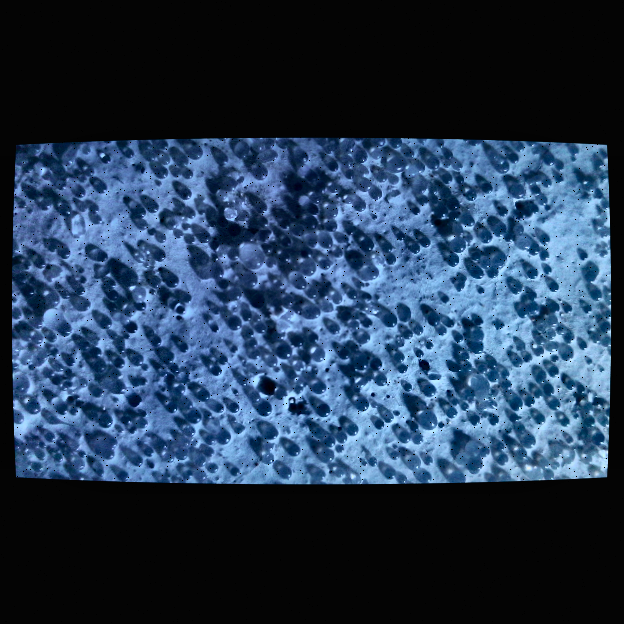GrassBeadSeg: (32, 181, 596, 472), (29, 144, 538, 447), (55, 188, 592, 456), (46, 159, 542, 435), (79, 172, 608, 406), (57, 179, 553, 422), (77, 203, 466, 475), (89, 205, 466, 483), (61, 159, 491, 401), (57, 176, 465, 429), (135, 206, 538, 449), (46, 238, 468, 468), (73, 286, 554, 478), (141, 149, 482, 417), (77, 206, 545, 399), (187, 149, 497, 425), (156, 138, 428, 449), (109, 168, 509, 378), (293, 152, 548, 480), (28, 166, 362, 412), (94, 149, 417, 403), (53, 305, 574, 459), (145, 201, 467, 443), (185, 291, 592, 480), (74, 188, 545, 351), (140, 249, 605, 413), (56, 253, 501, 424), (35, 292, 487, 460), (336, 162, 601, 444), (204, 234, 551, 446), (54, 255, 398, 462), (308, 176, 575, 440), (33, 258, 327, 481), (77, 268, 567, 401), (275, 201, 601, 400), (109, 245, 541, 395), (368, 201, 606, 465), (127, 285, 507, 449), (318, 234, 565, 484), (48, 251, 549, 372), (151, 252, 481, 426), (81, 147, 604, 254), (327, 182, 534, 451), (113, 189, 390, 386), (31, 340, 560, 440), (143, 221, 360, 459), (271, 219, 605, 372), (178, 205, 556, 340), (153, 250, 411, 444), (123, 253, 589, 356), (79, 276, 561, 374), (91, 205, 454, 328), (176, 349, 548, 460), (59, 322, 438, 429), (122, 307, 556, 396), (150, 336, 430, 473), (193, 354, 532, 466), (120, 272, 488, 374), (78, 205, 334, 351), (124, 274, 437, 393), (265, 207, 509, 355), (162, 186, 514, 286), (133, 261, 318, 450), (44, 209, 386, 309), (46, 268, 500, 343), (75, 169, 280, 333), (280, 174, 564, 283), (178, 334, 576, 410), (119, 145, 205, 482), (88, 306, 590, 363), (131, 377, 402, 476), (97, 239, 376, 329), (73, 202, 161, 471), (117, 344, 296, 476), (290, 160, 407, 347), (135, 302, 589, 350), (225, 306, 593, 365), (15, 367, 473, 414), (306, 338, 524, 424), (19, 142, 151, 284), (478, 154, 572, 353), (277, 187, 384, 359), (141, 329, 553, 372), (355, 387, 591, 460), (103, 400, 499, 443), (247, 378, 424, 470), (136, 308, 384, 372), (149, 206, 339, 288), (433, 207, 545, 345), (44, 412, 547, 442), (203, 402, 470, 457), (130, 372, 546, 407), (307, 289, 561, 345), (501, 162, 566, 379), (436, 236, 530, 380), (487, 187, 553, 391), (146, 228, 259, 345), (70, 364, 232, 444), (182, 400, 535, 436), (216, 355, 334, 462), (327, 289, 603, 334), (417, 399, 562, 483), (509, 185, 576, 361), (94, 253, 222, 345), (295, 311, 439, 392), (98, 275, 182, 413), (146, 249, 242, 367), (196, 232, 307, 330), (520, 154, 557, 446), (294, 207, 422, 288), (178, 156, 407, 200), (25, 381, 328, 414), (102, 420, 446, 449), (483, 321, 610, 399), (360, 420, 573, 466), (98, 371, 274, 424), (389, 397, 534, 461), (12, 284, 118, 368), (135, 198, 245, 278), (186, 442, 399, 480), (230, 403, 343, 474), (267, 312, 373, 386), (281, 243, 395, 307), (209, 365, 435, 397), (212, 303, 284, 401), (241, 316, 558, 338), (465, 141, 534, 242), (13, 262, 115, 328), (199, 140, 289, 214), (96, 316, 182, 392), (372, 185, 468, 253), (505, 194, 608, 257), (518, 277, 610, 347), (23, 437, 183, 477), (335, 401, 418, 476), (512, 385, 609, 445), (31, 316, 245, 343), (314, 196, 404, 258), (119, 334, 248, 376), (14, 413, 132, 458), (326, 238, 431, 288), (267, 357, 421, 391), (177, 151, 279, 202), (511, 406, 593, 469), (414, 161, 477, 234), (307, 333, 471, 361), (97, 389, 212, 428), (452, 230, 521, 293), (58, 356, 129, 416), (287, 398, 358, 456), (353, 267, 381, 412), (136, 142, 168, 267), (396, 323, 456, 388), (139, 217, 225, 262), (450, 139, 497, 221), (260, 182, 318, 248), (179, 413, 236, 480), (383, 312, 483, 349), (101, 450, 332, 466), (292, 364, 336, 448), (496, 187, 542, 261), (160, 230, 185, 363), (226, 252, 292, 302), (306, 207, 447, 230), (266, 137, 402, 160), (19, 156, 73, 213), (212, 202, 271, 252), (528, 150, 576, 211), (161, 352, 247, 386), (13, 345, 74, 391), (290, 294, 371, 327), (208, 403, 245, 475), (437, 143, 525, 173), (263, 403, 331, 441), (315, 166, 416, 191), (451, 268, 484, 340), (112, 338, 191, 367), (109, 354, 146, 405), (570, 147, 605, 200), (272, 280, 359, 300), (562, 387, 604, 426), (131, 287, 244, 301), (428, 156, 457, 206), (470, 317, 505, 353), (339, 286, 368, 329), (526, 267, 559, 304), (423, 456, 484, 474), (51, 363, 80, 399), (184, 153, 222, 179), (482, 259, 552, 273), (562, 413, 579, 468), (22, 441, 79, 455), (147, 151, 189, 170), (481, 399, 523, 417), (328, 152, 367, 171), (137, 218, 167, 242), (351, 180, 373, 211), (519, 302, 539, 313), (536, 196, 549, 206)
